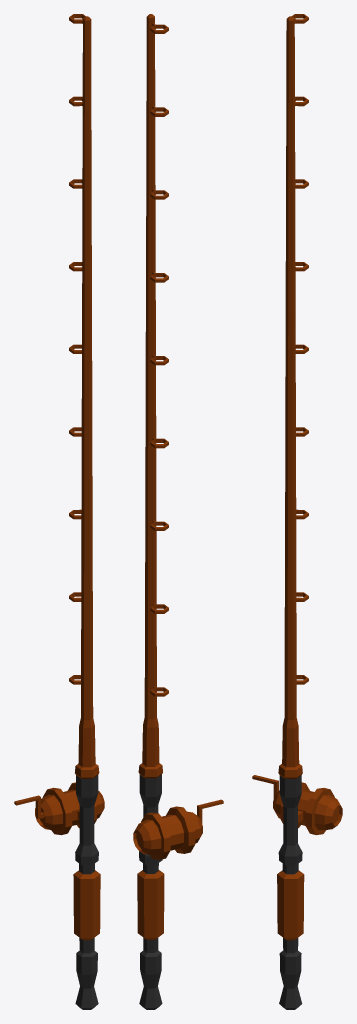
Rendered from Fishing Rod-aOabqWh68m.glb.
The picture shows the model from 3 angles, left to right: view 1: azimuth 30°, elevation 25°; view 2: azimuth 210°, elevation 25°; view 3: azimuth 330°, elevation 25°; orthographic projection.
Visible parts, largest first — view 1: FishingRod_Lvl5; view 2: FishingRod_Lvl5; view 3: FishingRod_Lvl5.
Part boxes in pixels (box(x1,y1,x2,y2)): FishingRod_Lvl5: box(14, 14, 104, 1009); FishingRod_Lvl5: box(133, 14, 223, 1009); FishingRod_Lvl5: box(252, 14, 342, 1009).
Bounding box in the file's own units: 0.6921 × 7.78 × 0.5045.
